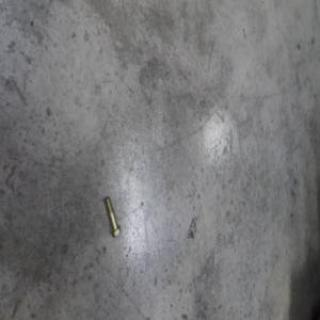Bolttrack_idkeyframe: (102, 195, 120, 240)
